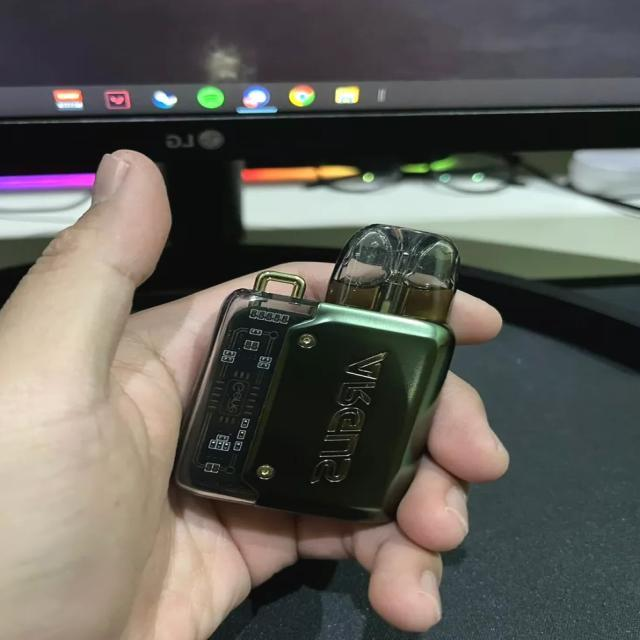Hazard: (170, 223, 460, 523)
